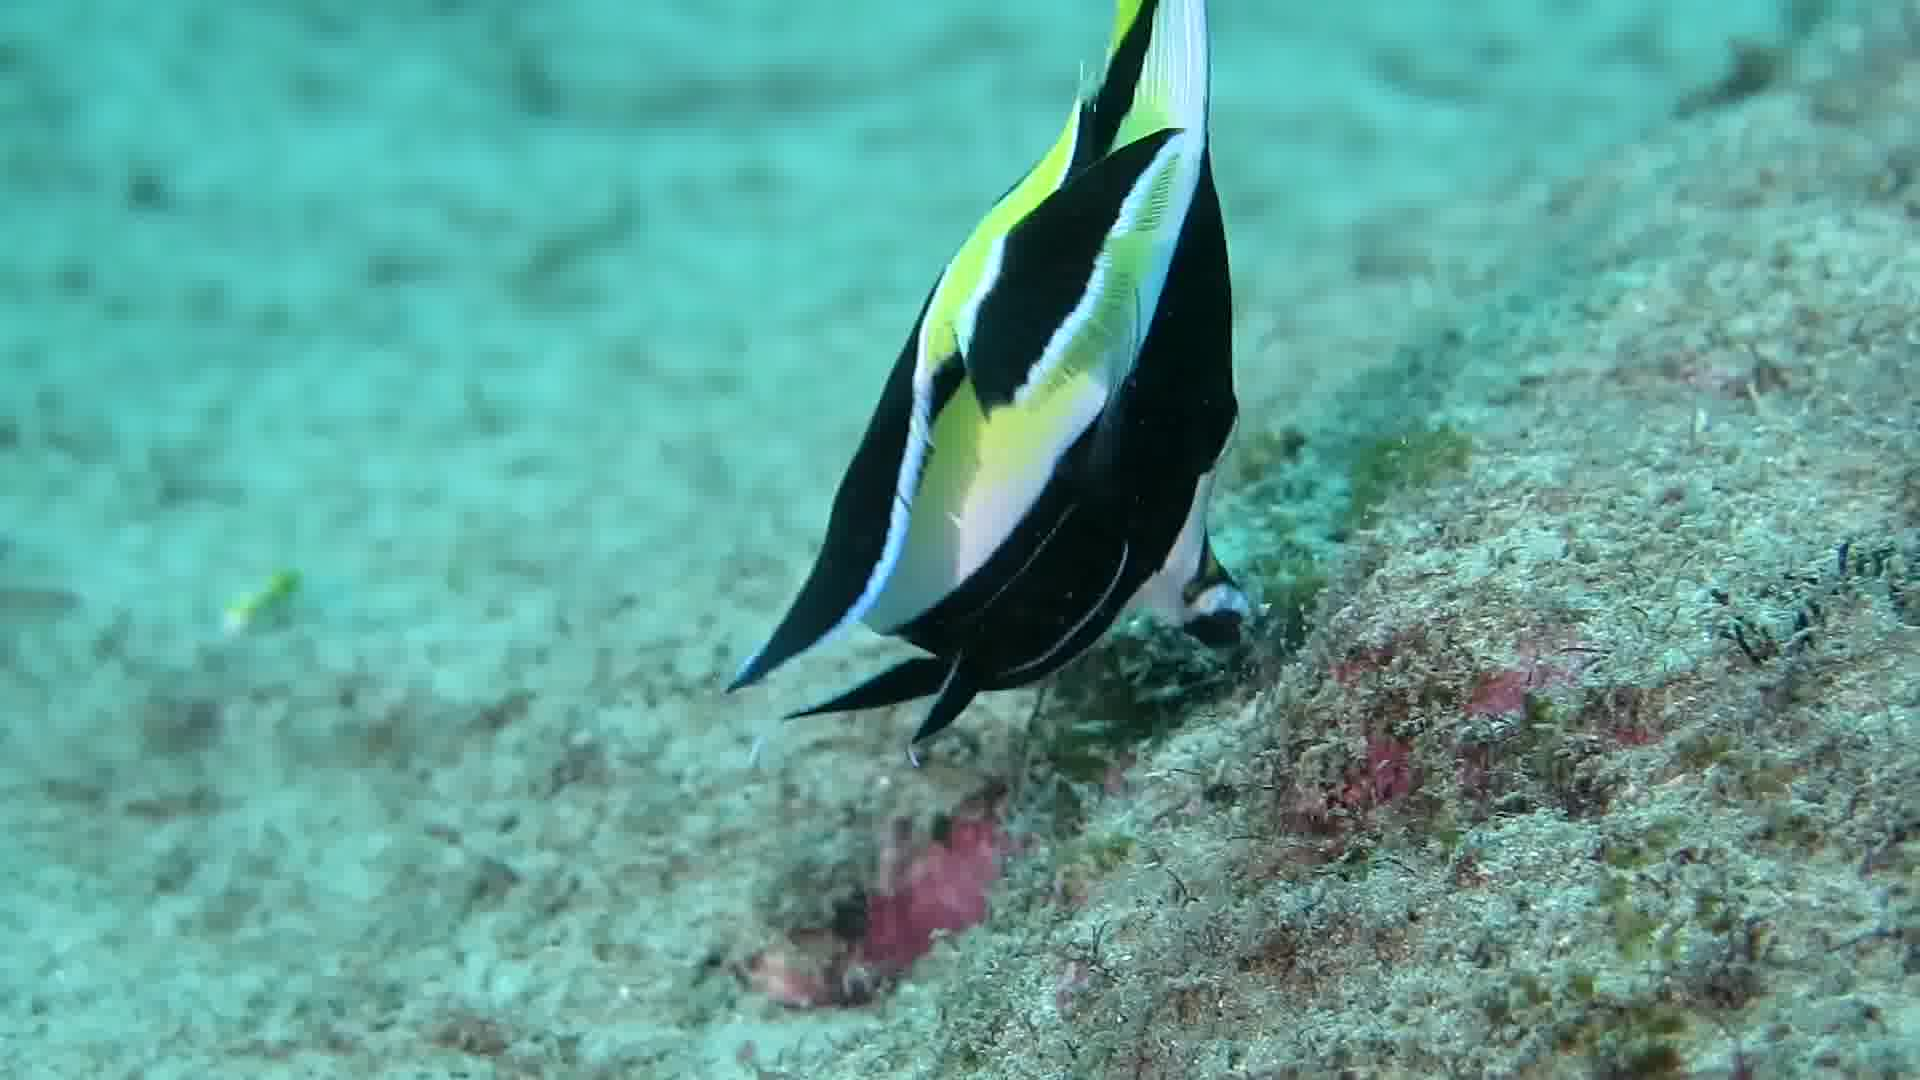Zanclus cornutus: (655, 15, 1349, 775)
